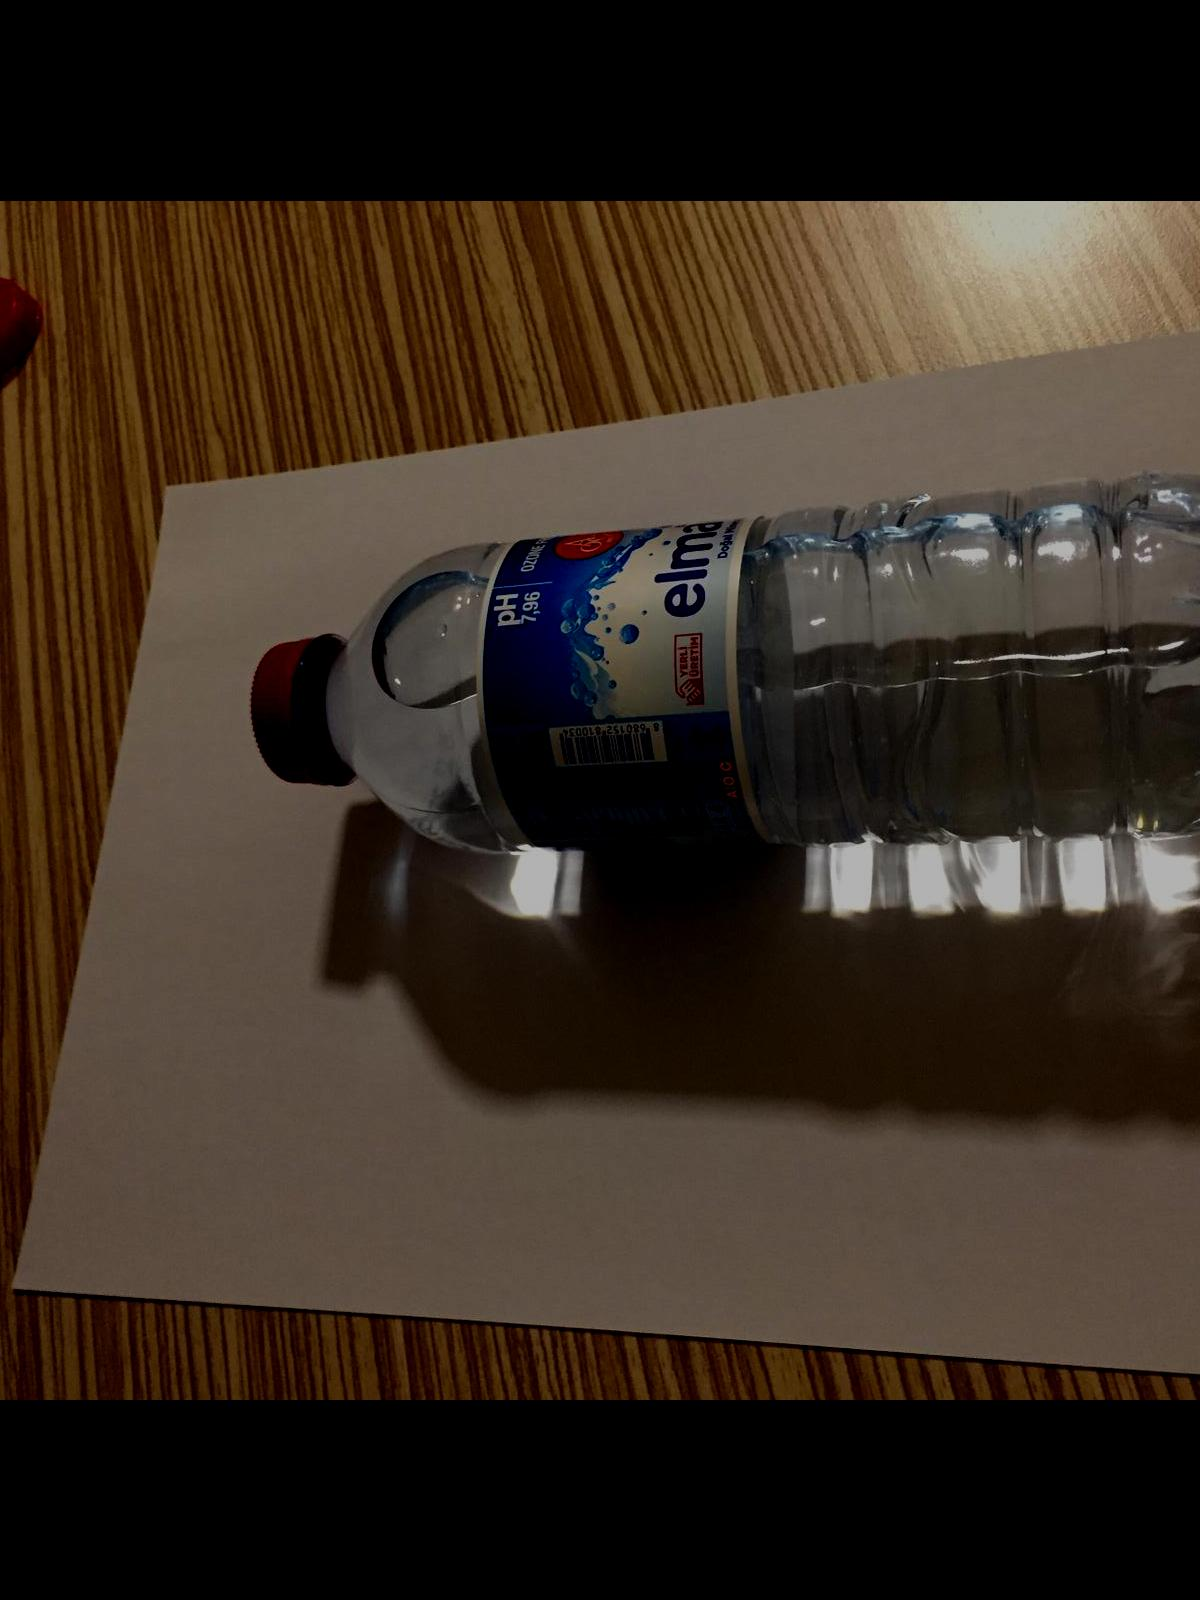bottle: (229, 480, 1200, 845)
